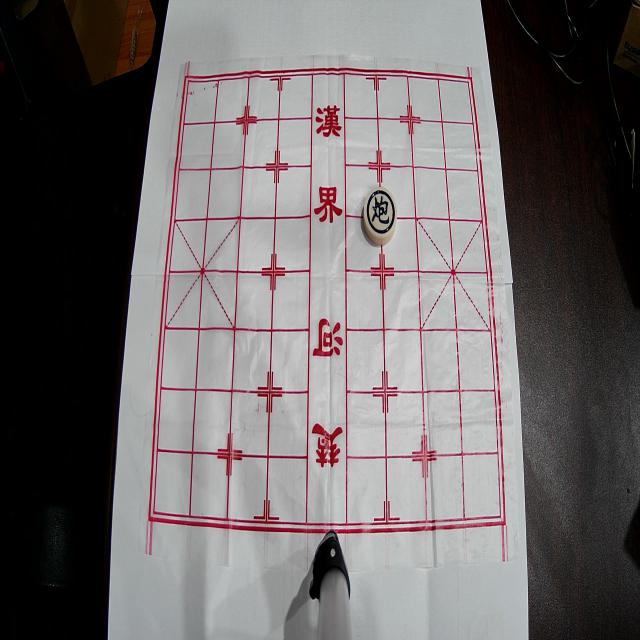black-cannon: (363, 187, 397, 245)
